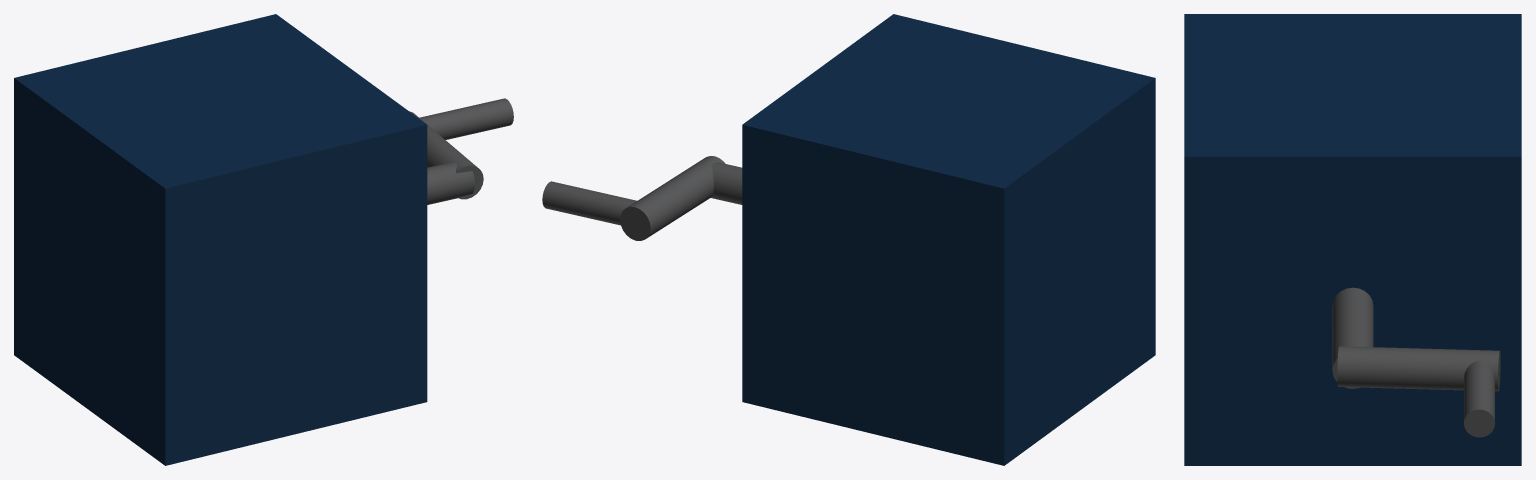
Rendered from Jackbox.fbx.
3 views of the same model, side by side, from view 1: azimuth 30°, elevation 25°; view 2: azimuth 150°, elevation 25°; view 3: azimuth 270°, elevation 25° (orthographic). The views are drawn at different scales.
Parts seen in each view (by area): view 1: pCube1, pCube2, pCylinder5; view 2: pCube1, pCube2, pCylinder5; view 3: pCube1, pCube2, pCylinder5.
Boxes of the visible parts, <box> form: pCube1: <box>14,82,427,465</box>; pCube2: <box>14,14,427,206</box>; pCylinder5: <box>409,98,513,204</box>; pCube1: <box>742,81,1155,465</box>; pCube2: <box>742,14,1155,206</box>; pCylinder5: <box>542,156,742,240</box>; pCube1: <box>1184,160,1521,465</box>; pCube2: <box>1184,14,1521,177</box>; pCylinder5: <box>1332,287,1500,437</box>.
Size of the model in its own units: 13.96 by 7.8 by 7.72.
